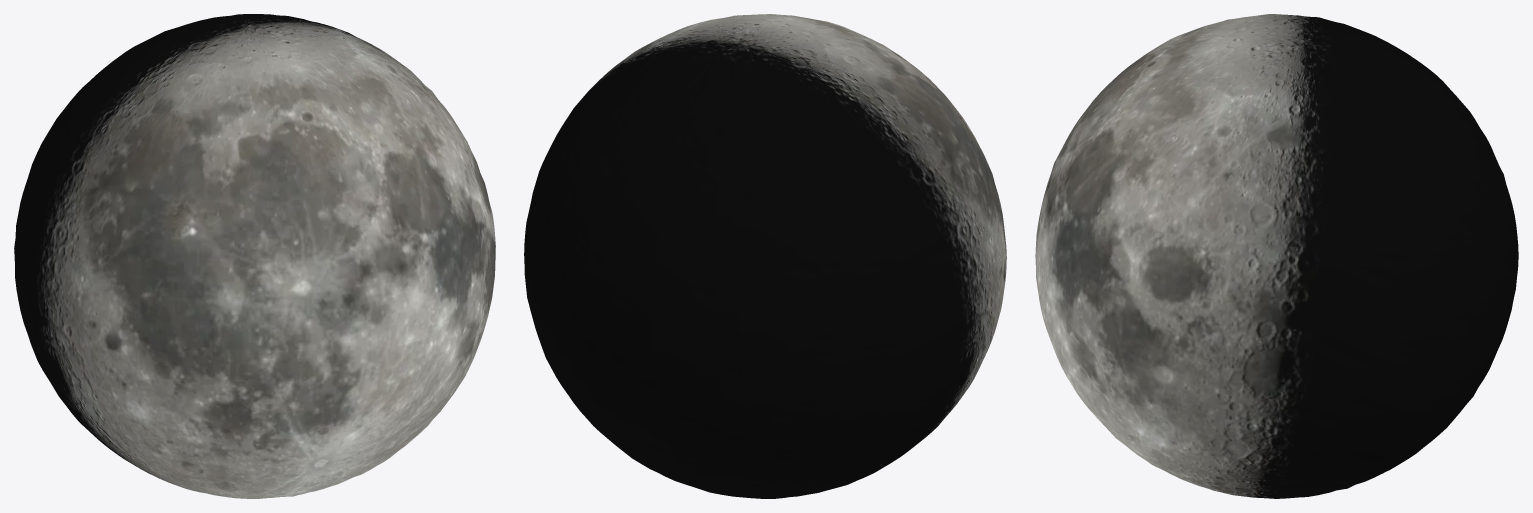
File: moon_phases .glb
3 renders of one model, left to right at view 1: azimuth 30°, elevation 25°; view 2: azimuth 150°, elevation 25°; view 3: azimuth 270°, elevation 25°, orthographic.
Visible parts, largest first — view 1: frame_0; view 2: frame_0; view 3: frame_0.
Boxes of the visible parts, bbox=[...] form: frame_0: bbox=[14, 14, 495, 498]; frame_0: bbox=[524, 14, 1006, 498]; frame_0: bbox=[1035, 14, 1518, 498].
Size of the model in its own units: 7.91 by 7.98 by 7.94.
30 materials, 30 textured.
